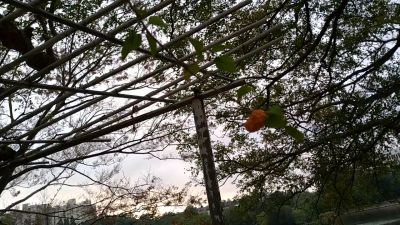eggs: (244, 108, 269, 133)
